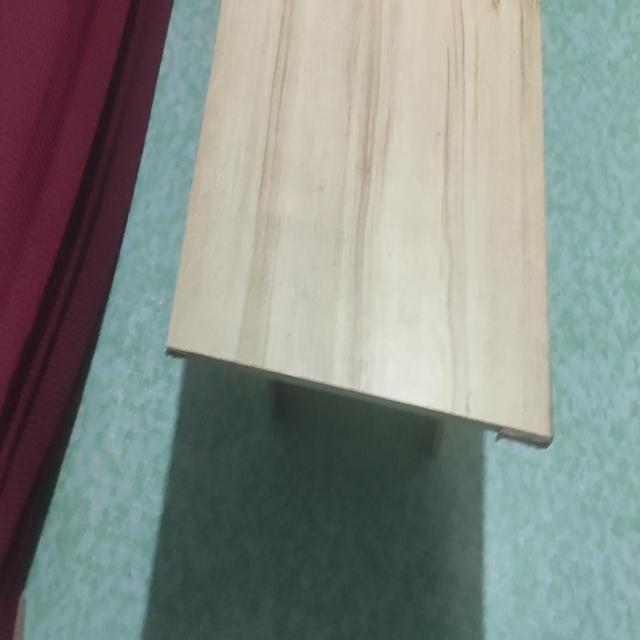table: (159, 0, 560, 455)
